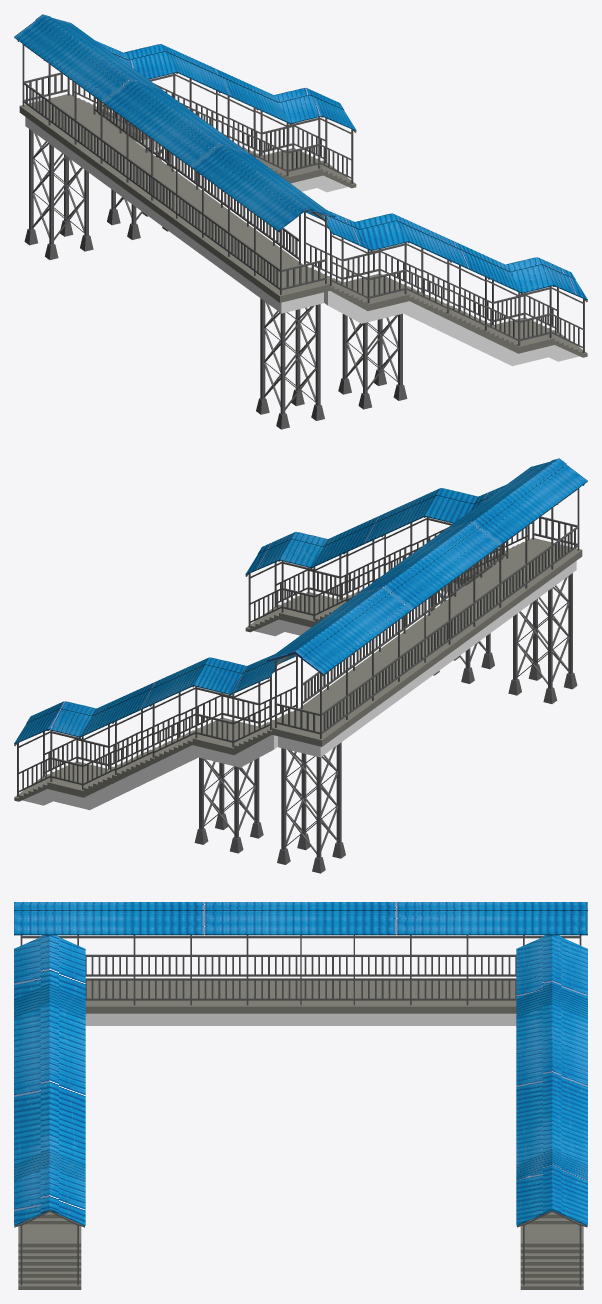
Rendered from FobBridge-transformed.glb.
3 views of the same model, one above another, from view 1: azimuth 30°, elevation 25°; view 2: azimuth 150°, elevation 25°; view 3: azimuth 270°, elevation 25° (orthographic). The views are drawn at different scales.
Parts seen in each view (by area): view 1: Roof_M, Stairs_M, Railings_M, Railings_R, Stair_roof_R, Stair_roof_L, Railings_L, Stairs_R, Piller_Right_M, Support_R, Piller_Left_M, Support_M (+4 smaller); view 2: Roof_M, Stairs_M, Railings_M, Railings_L, Stair_roof_L, Stair_roof_R, Railings_R, Stairs_L, Piller_Left_M, Support_L, Piller_Right_M, Support_M (+4 smaller); view 3: Stair_roof_R, Stair_roof_L, Roof_M, Stairs_M, Railings_M, Support_M, Stairs_L, Stairs_R.
Part boxes in pixels (x1=…): Roof_M: x1=14, y1=14, x2=335, y2=231; Stairs_M: x1=19, y1=94, x2=329, y2=302; Railings_M: x1=17, y1=40, x2=329, y2=294; Railings_R: x1=304, y1=210, x2=587, y2=353; Stair_roof_R: x1=306, y1=210, x2=587, y2=300; Stair_roof_L: x1=96, y1=41, x2=356, y2=130; Railings_L: x1=72, y1=72, x2=356, y2=183; Stairs_R: x1=307, y1=267, x2=587, y2=357; Piller_Right_M: x1=256, y1=298, x2=324, y2=429; Support_R: x1=324, y1=291, x2=579, y2=366; Piller_Left_M: x1=24, y1=129, x2=93, y2=259; Support_M: x1=25, y1=117, x2=323, y2=313; Roof_M: x1=266, y1=458, x2=587, y2=675; Stairs_M: x1=272, y1=538, x2=582, y2=746; Railings_M: x1=272, y1=484, x2=584, y2=738; Railings_L: x1=14, y1=654, x2=297, y2=797; Stair_roof_L: x1=14, y1=654, x2=295, y2=744; Stair_roof_R: x1=245, y1=485, x2=505, y2=574; Railings_R: x1=245, y1=516, x2=529, y2=627; Stairs_L: x1=14, y1=711, x2=294, y2=801; Piller_Left_M: x1=277, y1=742, x2=345, y2=873; Support_L: x1=22, y1=735, x2=277, y2=810; Piller_Right_M: x1=508, y1=573, x2=577, y2=703; Support_M: x1=278, y1=561, x2=576, y2=757; Stair_roof_R: x1=14, y1=935, x2=85, y2=1225; Stair_roof_L: x1=516, y1=935, x2=587, y2=1225; Roof_M: x1=14, y1=902, x2=587, y2=935; Stairs_M: x1=85, y1=980, x2=516, y2=1013; Railings_M: x1=20, y1=935, x2=581, y2=1005; Support_M: x1=85, y1=1013, x2=516, y2=1025; Stairs_L: x1=520, y1=1212, x2=583, y2=1289; Stairs_R: x1=18, y1=1212, x2=81, y2=1289.
Size of the model in its own units: 30.86 by 20.77 by 45.41.
4 materials, 1 textured.
